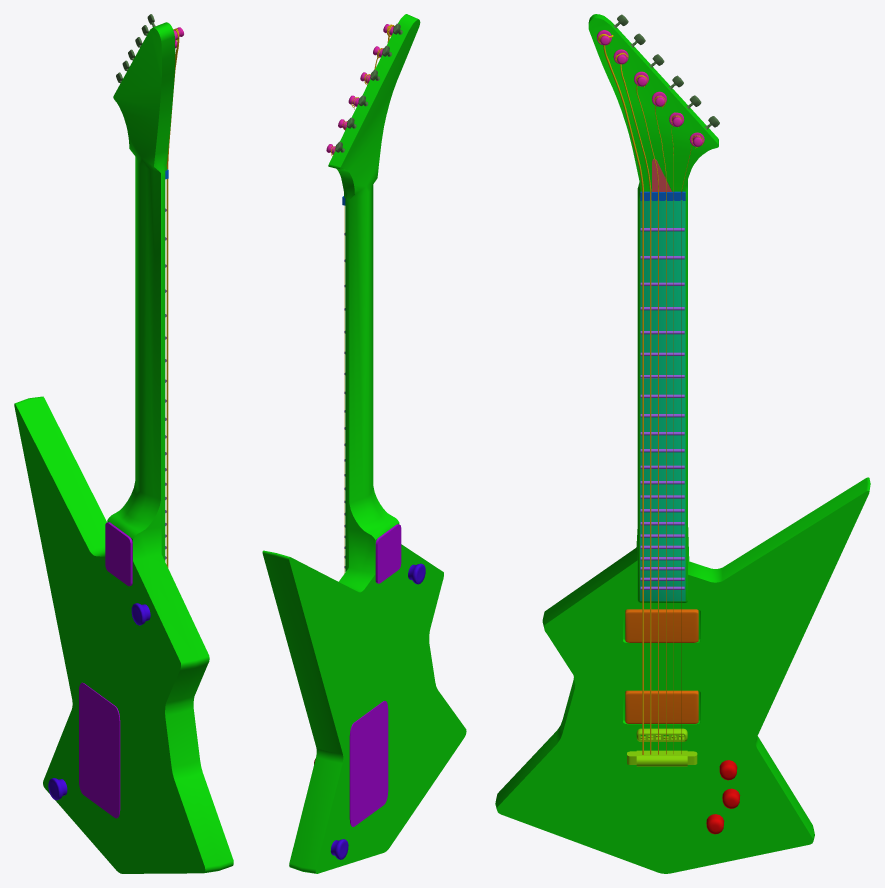
The model's file is explorerstyle.fbx.
3 renders of one model, left to right at view 1: azimuth 30°, elevation 25°; view 2: azimuth 150°, elevation 25°; view 3: azimuth 270°, elevation 25°, orthographic. The views are drawn at different scales.
Visible parts, largest first — view 1: angular; view 2: angular; view 3: angular.
Boxes of the visible parts, left/top/right/bottom form: angular: left=14, top=14, right=233, bottom=873; angular: left=262, top=14, right=466, bottom=873; angular: left=495, top=14, right=870, bottom=873.
Bounding box in the file's own units: 25.09 × 373 × 149.
